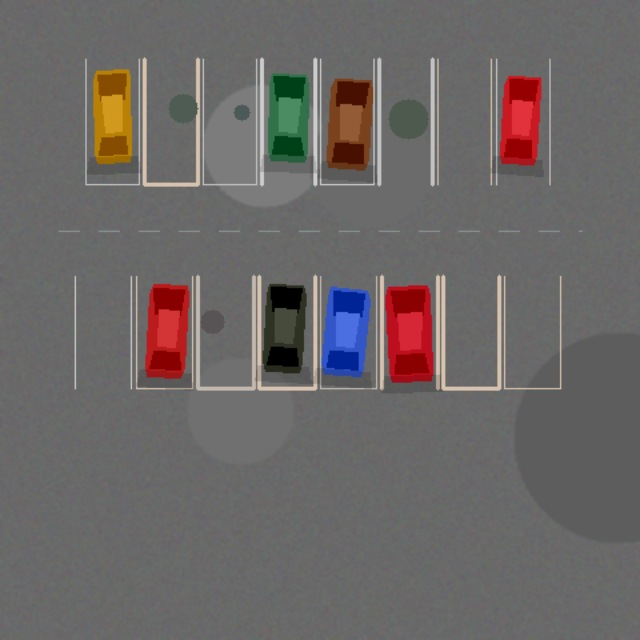space-empty: (437, 59, 491, 184), (144, 59, 197, 184), (203, 59, 256, 184), (379, 59, 432, 184), (75, 276, 131, 388), (197, 276, 253, 388), (443, 276, 499, 388), (504, 276, 560, 388)
space-occupied: (85, 59, 139, 184), (261, 59, 315, 184), (320, 59, 373, 184), (496, 59, 549, 184), (136, 276, 192, 388), (259, 276, 315, 388), (320, 276, 376, 388), (381, 276, 437, 388)
